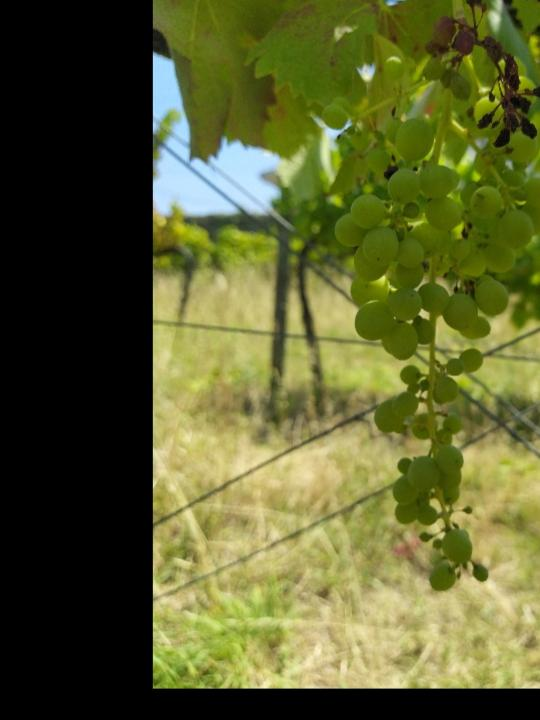grape: (318, 54, 540, 593), (421, 0, 540, 147)
